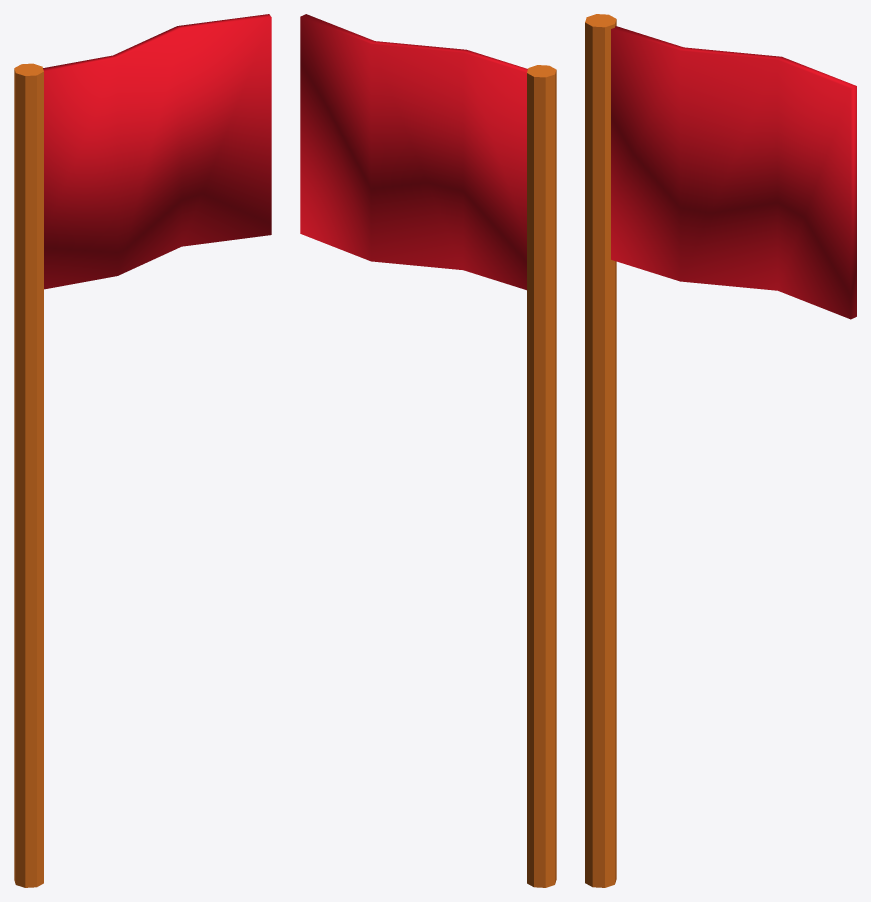
Rendered from flag.fbx.
3 views of the same model, side by side, from view 1: azimuth 30°, elevation 25°; view 2: azimuth 150°, elevation 25°; view 3: azimuth 330°, elevation 25° (orthographic). The views are drawn at different scales.
Visible parts, largest first — view 1: Plane, Cylinder; view 2: Plane, Cylinder; view 3: Plane, Cylinder.
Part boxes in pixels (bbox=[...]): Plane: bbox=[43, 14, 271, 289]; Cylinder: bbox=[14, 63, 43, 887]; Plane: bbox=[300, 14, 527, 290]; Cylinder: bbox=[527, 65, 556, 887]; Plane: bbox=[611, 26, 856, 319]; Cylinder: bbox=[585, 14, 616, 887].
Size of the model in its own units: 523 by 1597 by 68.12.
